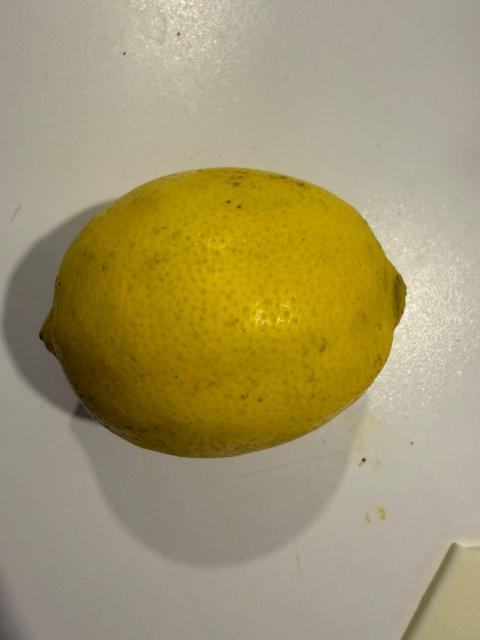Organik: (33, 167, 411, 463)
